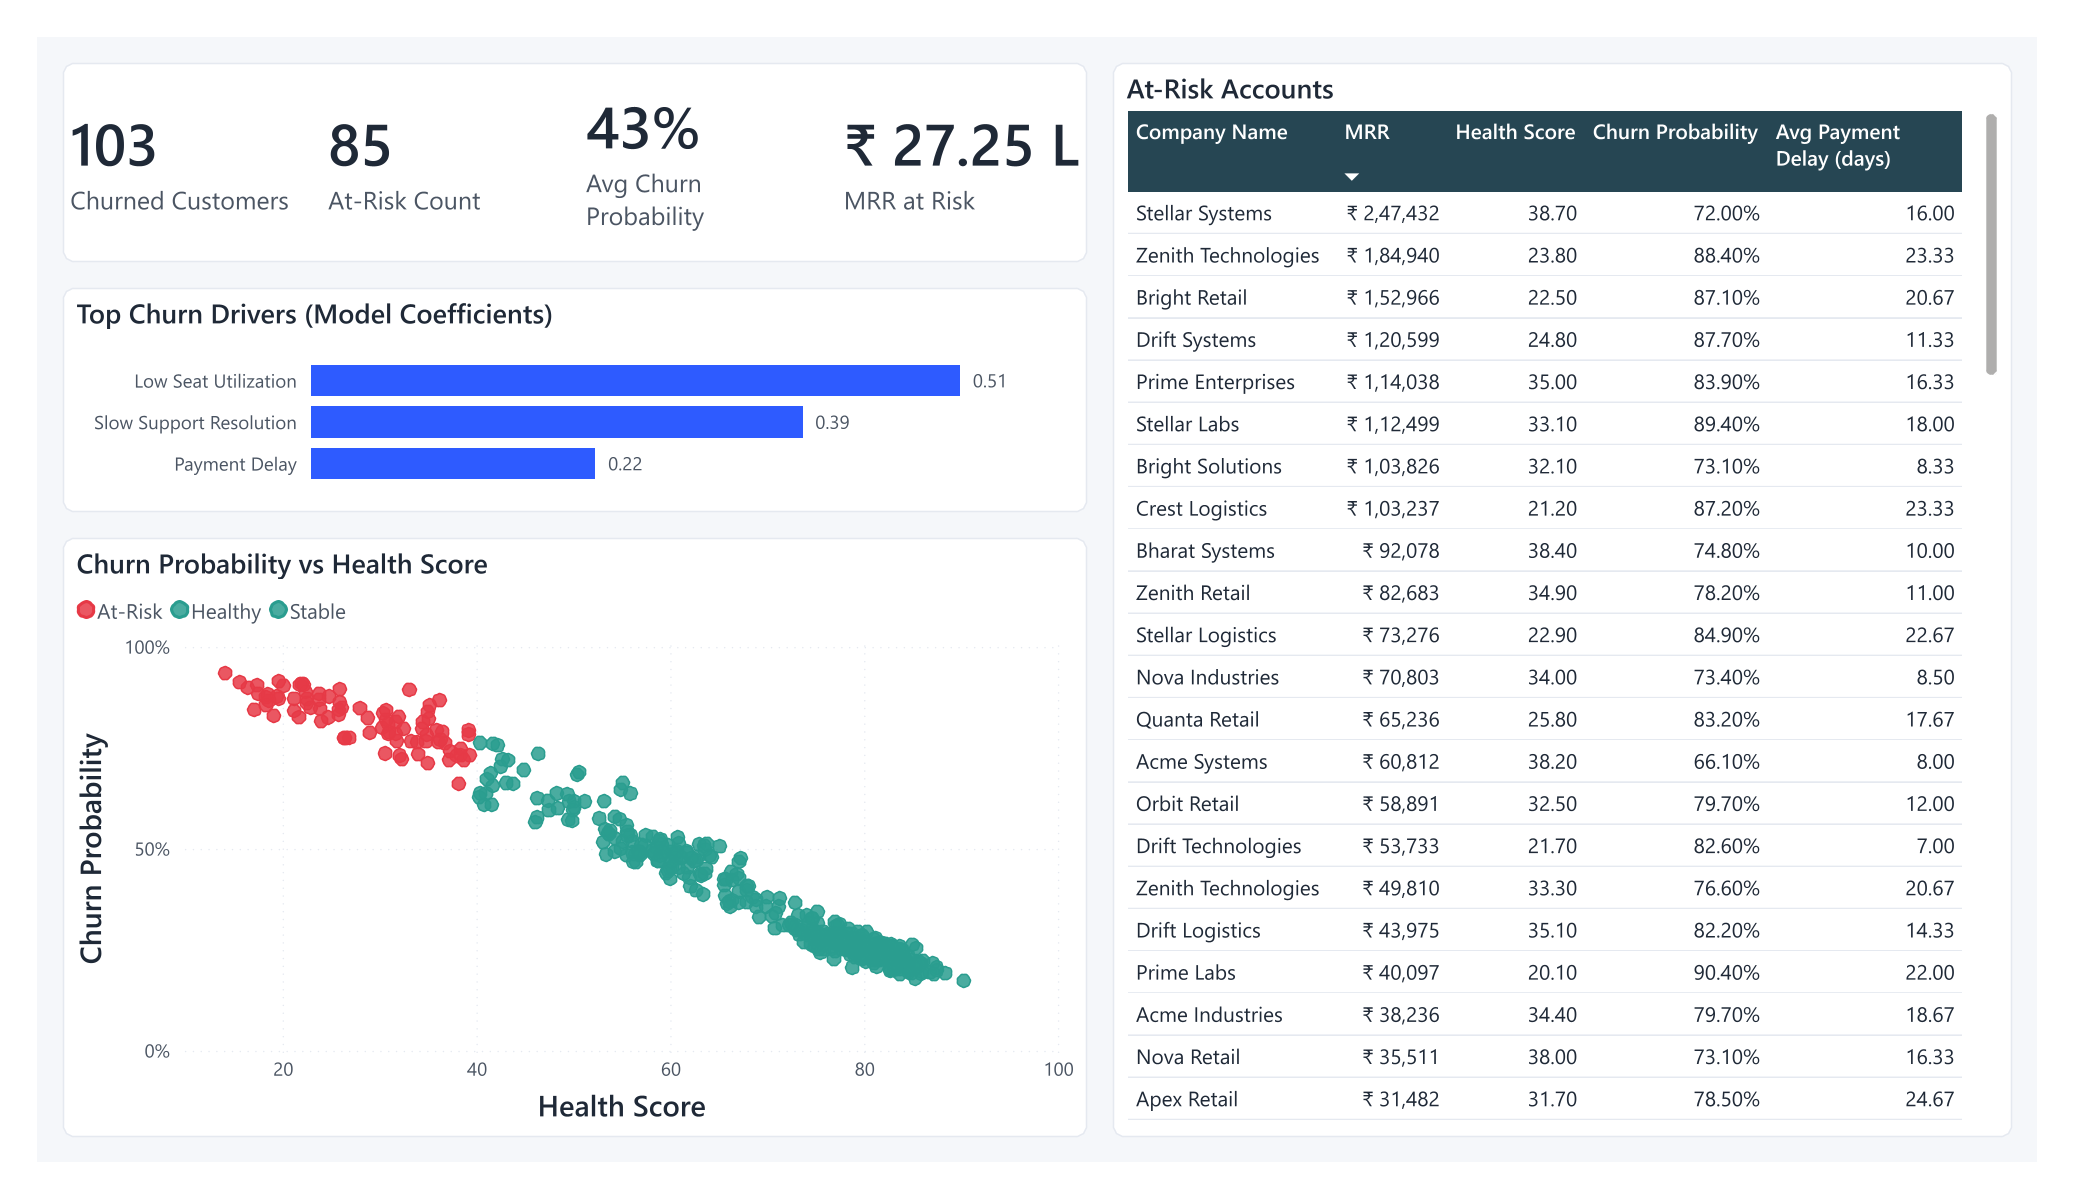

What the dashboard file says about the page in this screenshot:
{"tool":"powerbi","page":{"name":"Churn Risk & Drivers","canvas":[1280,720],"ordinal":2},"visuals":[{"type":"cardVisual","fields":{"Data":["_Measures.Churned Customers","_Measures.At-Risk Count","_Measures.Avg Churn Probability","_Measures.MRR at Risk (Cr)"]},"box":[16,16,656,128],"z":0},{"type":"barChart","title":"Top Churn Drivers (Model Coefficients)","fields":{"Category":["ChurnDrivers.Driver"],"Y":["Avg(ChurnDrivers.Impact)"]},"box":[16,160,656,144],"z":1000},{"type":"scatterChart","title":"Churn Probability vs Health Score","fields":{"Category":["features_final.company_id"],"X":["features_final.health_score"],"Series":["features_final.health_segment"],"Y":["features_final.churn_probability"]},"box":[16,320,656,384],"z":2000},{"type":"tableEx","title":"At-Risk Accounts","fields":{"Values":["features_final.company_name","features_final.mrr","features_final.health_score","features_final.churn_probability","features_final.avg_payment_delay"]},"box":[688,16,576,688],"z":3000}]}

Visuals, with their boxes on the page's 1280x720 design canvas (x1, y1, x2, y2). These are canvas units, not pixel positions in the 2075x1200 screenshot, which may show the page scaled, cropped or inside an application window:
cardVisual - _Measures.Churned Customers x _Measures.At-Risk Count: (16,16,672,144)
"Top Churn Drivers (Model Coefficients)" barChart: (16,160,672,304)
"Churn Probability vs Health Score" scatterChart: (16,320,672,704)
"At-Risk Accounts" tableEx: (688,16,1264,704)
